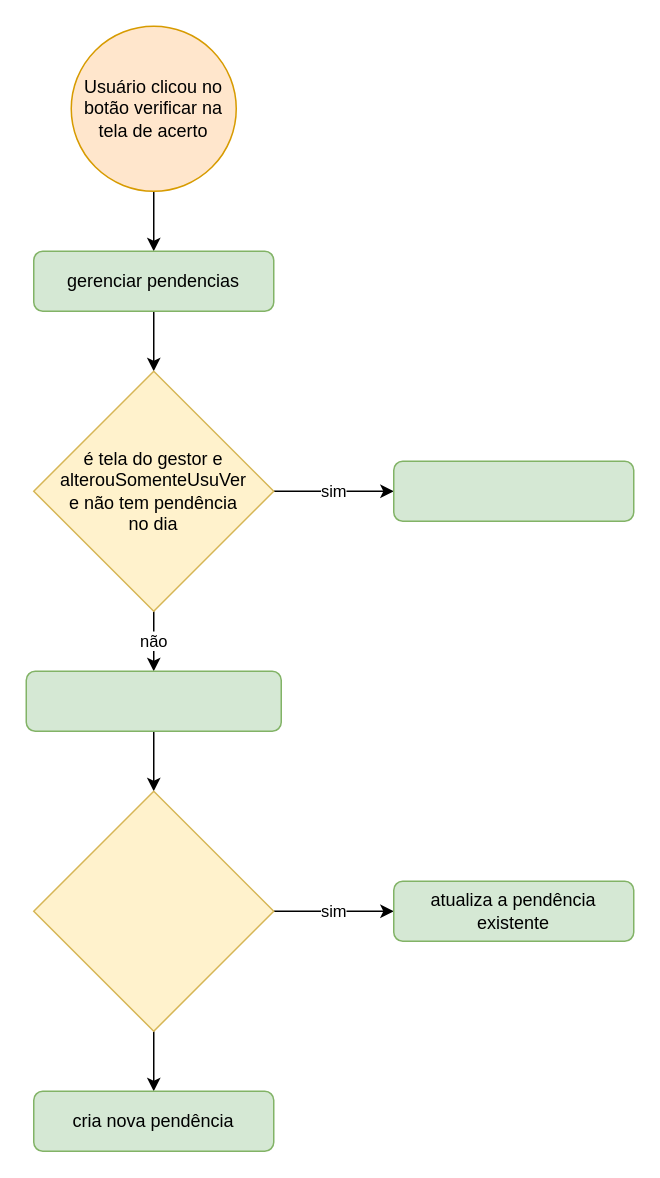
This 660x1178 diagram has some shape labels left out. The shapes that lost their labels are listed below. From the top down, each one's centre as x and y in pixels, then its label:
(513,490): não faz nada, termina a rotina
(153,700): gerencia as pendências pelo processo do acerto
(153,910): tem pendência no dia
